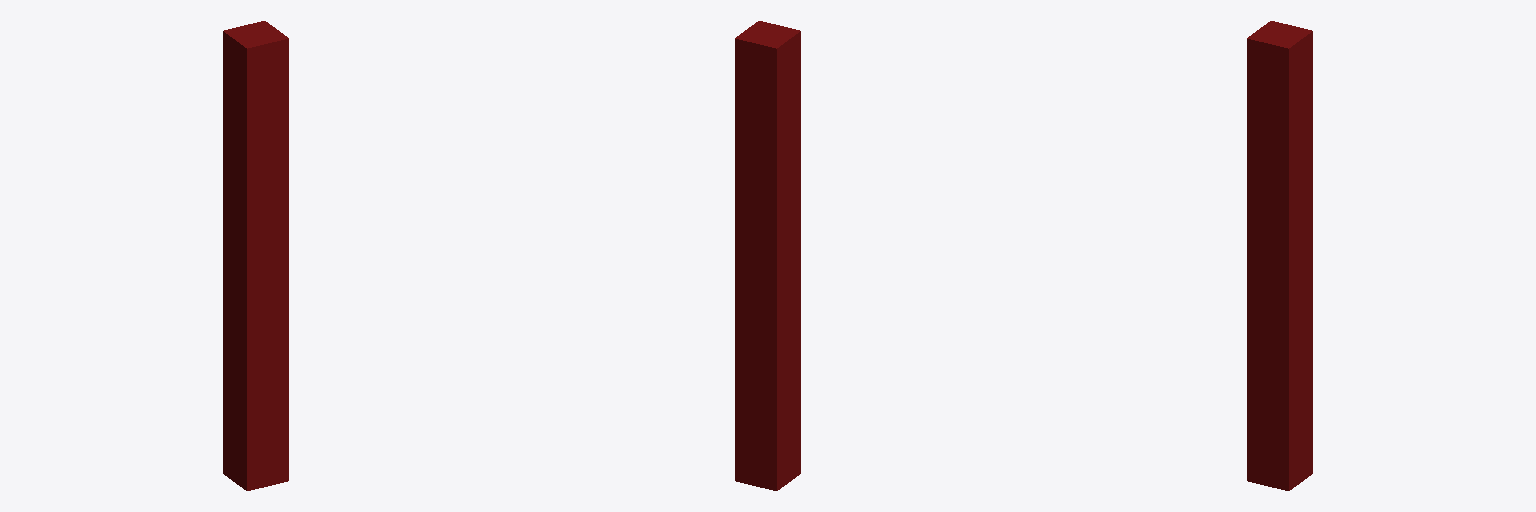
robot.urdf — sensor_head:
<?xml version="1.0"?>
<robot name="sensor_head" 
       xmlns:controller="http://playerstage.sourceforge.net/gazebo/xmlschema/#controller"
       xmlns:interface="http://playerstage.sourceforge.net/gazebo/xmlschema/#interface"
       xmlns:sensor="http://playerstage.sourceforge.net/gazebo/xmlschema/#sensor"
       >
  <!-- LINKS -->
  <link name="sensor_base_link">
    <visual>
      <geometry>
        <box size="0.005 0.005 0.05"/>
      </geometry>
      <material name="redish">
	<color rgba="0.5 0.1 0.1 1.0"/>
      </material>
      <!-- let's push the origin of the support beam from the middle to its bottom -->
      <origin rpy="0 0 0" xyz="0 0 0.025"/> 
    </visual>
    <collision>
      <geometry>
        <box size="0.005 0.005 0.05"/>
      </geometry>
      <origin rpy="0 0 0" xyz="0 0 0.025"/> 
    </collision>
    <inertial>
      <origin xyz="0 0 0"/>
      <mass value="0.1"/>
      <inertia ixx="1.0" ixy="0.0" ixz="0.0" iyy="1.0" iyz="0.0" izz="1.0"/>
    </inertial>
  </link>

  <link name="kinect_link">
    <inertial>
      <mass value="0.1"/>
      <origin xyz="0 0 0"/>
      <inertia ixx="0.001" ixy="0.0" ixz="0.0" iyy="0.001" iyz="0.0" izz="0.001"/>
    </inertial>
    <visual>
      <origin rpy="0 0 0" xyz=" 0 0 0 "/>
      <geometry>
        <mesh filename="package://wpi_drc_sim/meshes/kinect_v0/kinect.dae" scale="0.001 0.001 0.001" />
      </geometry>
    </visual>
    <collision>
      <origin rpy="0 0 0" xyz="0.0 0.0 0.0"/>
      <geometry>
	<mesh filename="package://wpi_drc_sim/meshes/kinect_v0/kinect.dae" scale="0.001 0.001 0.001" />
      </geometry>
    </collision>
  </link>

  <link name="camera_depth_frame">
    <inertial>
      <mass value="0.01"/>
      <origin xyz="0 0 0"/>
      <inertia ixx="0.001" ixy="0.0" ixz="0.0" iyy="0.001" iyz="0.0" izz="0.001"/>
    </inertial>
  </link>

  <link name="camera_depth_optical_frame">
    <inertial>
      <mass value="0.001"/>
      <origin xyz="0 0 0"/>
      <inertia ixx="0.0001" ixy="0.0" ixz="0.0" iyy="0.0001" iyz="0.0" izz="0.0001"/>
    </inertial>
  </link>

  <link name="camera_rgb_frame">
    <inertial>
      <mass value="0.001"/>
      <origin xyz="0 0 0"/>
      <inertia ixx="0.0001" ixy="0.0" ixz="0.0" iyy="0.0001" iyz="0.0" izz="0.0001"/>
    </inertial>
  </link>

  <link name="camera_rgb_optical_frame">
    <inertial>
      <mass value="0.001"/>
      <origin xyz="0 0 0"/>
      <inertia ixx="0.0001" ixy="0.0" ixz="0.0" iyy="0.0001" iyz="0.0" izz="0.0001"/>
    </inertial>
  </link>

  <!-- JOINTS -->

  <joint name="kinect_to_base" type="fixed">
    <parent link="sensor_base_link"/>
    <child link="kinect_link"/>
    <!--origin xyz="0.031 0.0 0.053"/-->
    <origin xyz="0.031 0.0 0.103"/>
  </joint>

  <joint name="camera_depth_joint" type="fixed">
    <origin rpy="0 0 0" xyz="0 0.018 0"/>
    <parent link="kinect_link"/>
    <child link="camera_depth_frame"/>
  </joint>

  <joint name="camera_depth_optical_joint" type="fixed">
    <origin rpy="-1.570795 0 -1.570795" xyz="0 0 0"/>
    <parent link="camera_depth_frame"/>
    <child link="camera_depth_optical_frame"/>
  </joint>

  <joint name="camera_rgb_joint" type="fixed">
    <origin rpy="0 0 0" xyz="0 -0.005 0"/>
    <parent link="kinect_link"/>
    <child link="camera_rgb_frame"/>
  </joint>

  <joint name="camera_rgb_optical_joint" type="fixed">
    <origin rpy="-1.570795 0 -1.570795" xyz="0 0 0"/>
    <parent link="camera_rgb_frame"/>
    <child link="camera_rgb_optical_frame"/>
  </joint>

  <!-- GAZEBO STUFF -->
  <gazebo>
    <turnGravityOff>true</turnGravityOff>
    <static>true</static>
  </gazebo>
  <gazebo reference="sensor_base_link">
    <material>Gazebo/Red</material>
  </gazebo>
  <gazebo reference="kinect_link">
    <sensor:camera name="kinect_camera">
      <imageFormat>R8G8B8</imageFormat>
      <imageSize>640 480</imageSize>
      <hfov>57</hfov>
      <nearClip>0.01</nearClip>
      <farClip>5</farClip>
      <updateRate>20</updateRate>
      <baseline>0.2</baseline>
      <controller:gazebo_ros_openni_kinect name="kinect_camera_controller" plugin="libgazebo_ros_openni_kinect.so">
	<cameraName>kinect_camera</cameraName>
        <alwaysOn>true</alwaysOn>
        <updateRate>20</updateRate>
        <imageTopicName>/camera/image_raw</imageTopicName>
        <pointCloudTopicName>/camera/depth/points</pointCloudTopicName>
        <cameraInfoTopicName>/camera/camera_info</cameraInfoTopicName>
        <frameName>kinect_depth_optical_frame</frameName>
	<pointCloudCutoff>0.5</pointCloudCutoff>
        <distortionK1>0.0</distortionK1>
        <distortionK2>0.0</distortionK2>
        <distortionK3>0.0</distortionK3>
        <distortionT1>0.0</distortionT1>
        <distortionT2>0.0</distortionT2>
      </controller:gazebo_ros_openni_kinect>
    </sensor:camera>
  </gazebo>
</robot>

--- What the picture shows (computed from the rendered views, not written in the file) ---
The picture shows the robot from 3 angles, left to right: view 1: azimuth 30°, elevation 25°; view 2: azimuth 150°, elevation 25°; view 3: azimuth 330°, elevation 25°; orthographic projection.
Robot: sensor_head — 6 links, 5 joints (5 fixed); root link sensor_base_link; default pose: every joint at zero.
Visible links, largest first — view 1: sensor_base_link; view 2: sensor_base_link; view 3: sensor_base_link.
Link boxes in pixels (x1,y1,x2,y2): sensor_base_link: (223, 21, 288, 490); sensor_base_link: (735, 21, 800, 490); sensor_base_link: (1247, 21, 1312, 490).
Bounding box of the posed robot: 0.005 × 0.005 × 0.05 m (x, y, z).
Meshes: 1 distinct files referenced, 0 mesh visuals loaded (none loaded); not drawn: 1 (reference not matched to a file when rendering).